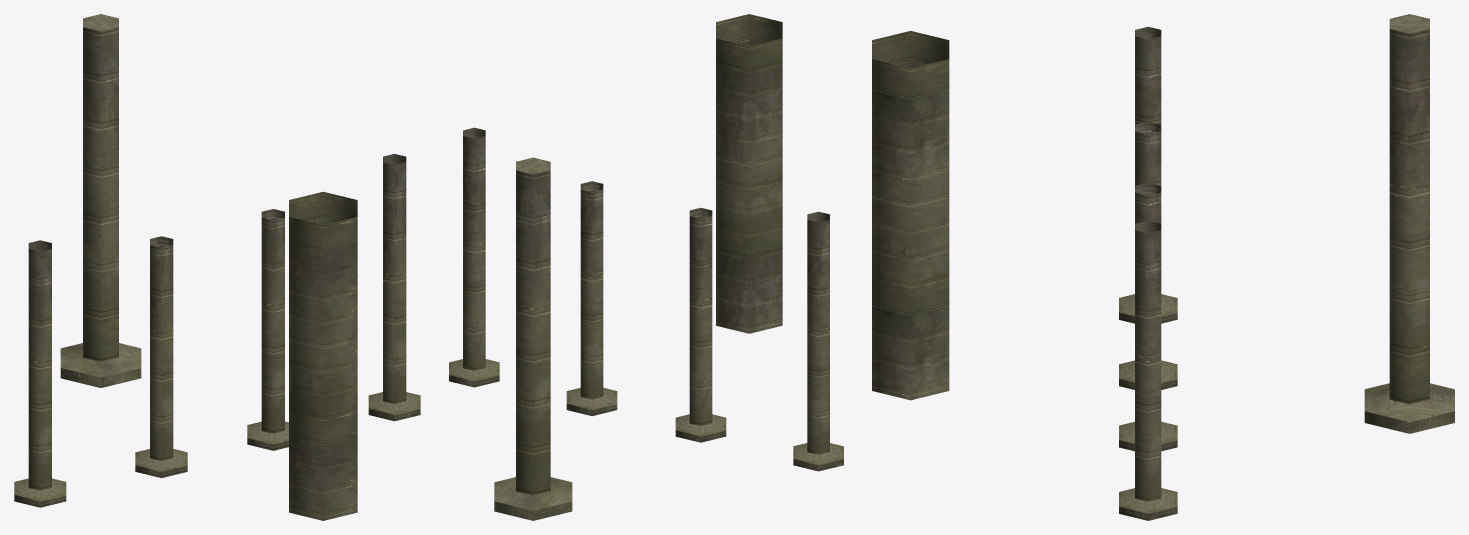
File: koloni2.fbx
3 views of the same model, side by side, from view 1: azimuth 30°, elevation 25°; view 2: azimuth 150°, elevation 25°; view 3: azimuth 270°, elevation 25° (orthographic). The views are drawn at different scales.
Parts seen in each view (by area): view 1: koloni2; view 2: koloni2; view 3: koloni2.
Boxes of the visible parts, bbox=[...] form: koloni2: bbox=[14, 14, 420, 520]; koloni2: bbox=[449, 14, 843, 520]; koloni2: bbox=[872, 14, 1454, 520].
Size of the model in its own units: 131 by 107 by 145.
